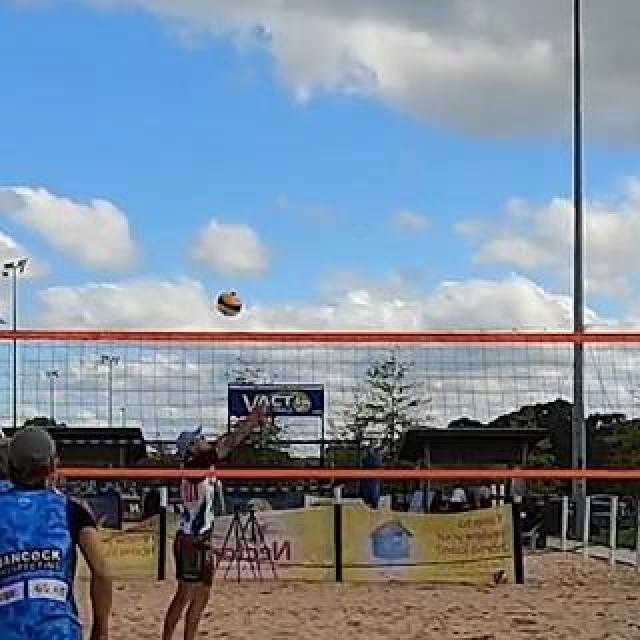volleyball: (217, 290, 241, 316), (493, 568, 509, 584)
